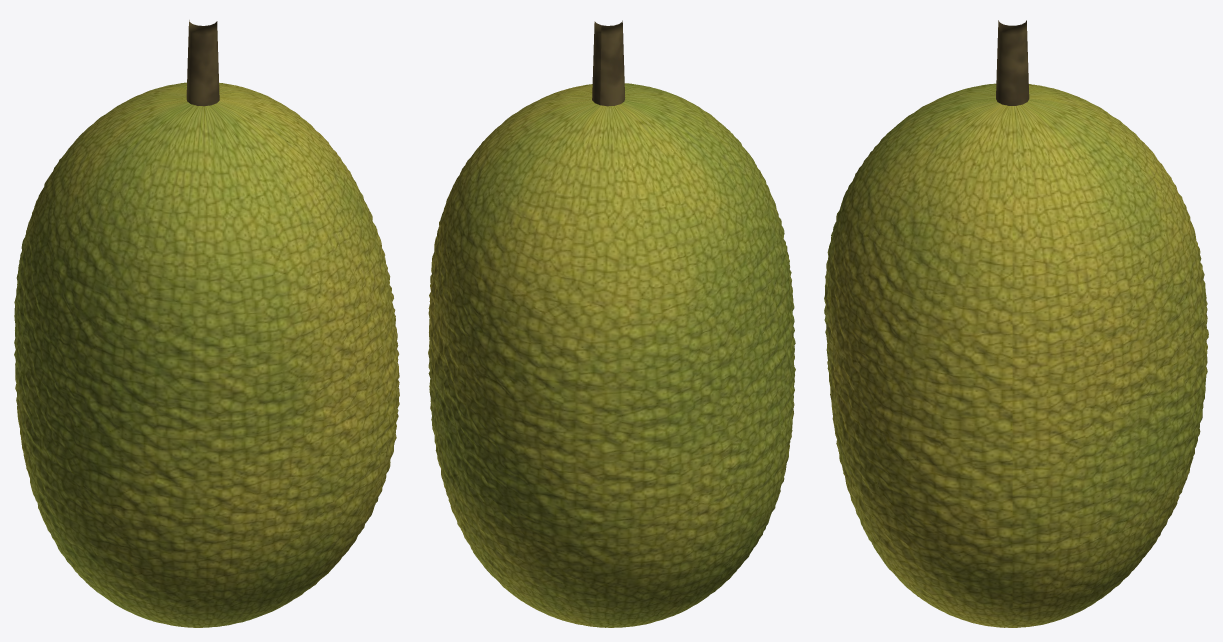
File: jacque.glb
3 views of the same model, side by side, from view 1: azimuth 30°, elevation 25°; view 2: azimuth 150°, elevation 25°; view 3: azimuth 270°, elevation 25° (orthographic).
Parts seen in each view (by area): view 1: moitie_A_peau, entier_peau, moitie_B_peau, entier_extra0; view 2: moitie_B_peau, entier_peau, moitie_A_peau, entier_extra0; view 3: entier_peau, moitie_B_peau, moitie_A_peau, entier_extra0.
Boxes of the visible parts, box(x1,y1,x2,y2) form: moitie_A_peau: box(46, 94, 399, 627); entier_peau: box(14, 82, 399, 627); moitie_B_peau: box(14, 82, 299, 589); entier_extra0: box(186, 20, 219, 106); moitie_B_peau: box(428, 93, 764, 627); entier_peau: box(428, 83, 795, 627); moitie_A_peau: box(523, 83, 795, 586); entier_extra0: box(592, 20, 625, 106); entier_peau: box(824, 84, 1208, 627); moitie_B_peau: box(1012, 84, 1208, 627); moitie_A_peau: box(824, 83, 1012, 627); entier_extra0: box(996, 20, 1029, 105).
Size of the model in its own units: 0.2629 by 0.46 by 0.2708.
Materials: 3 (3 with a texture image).
